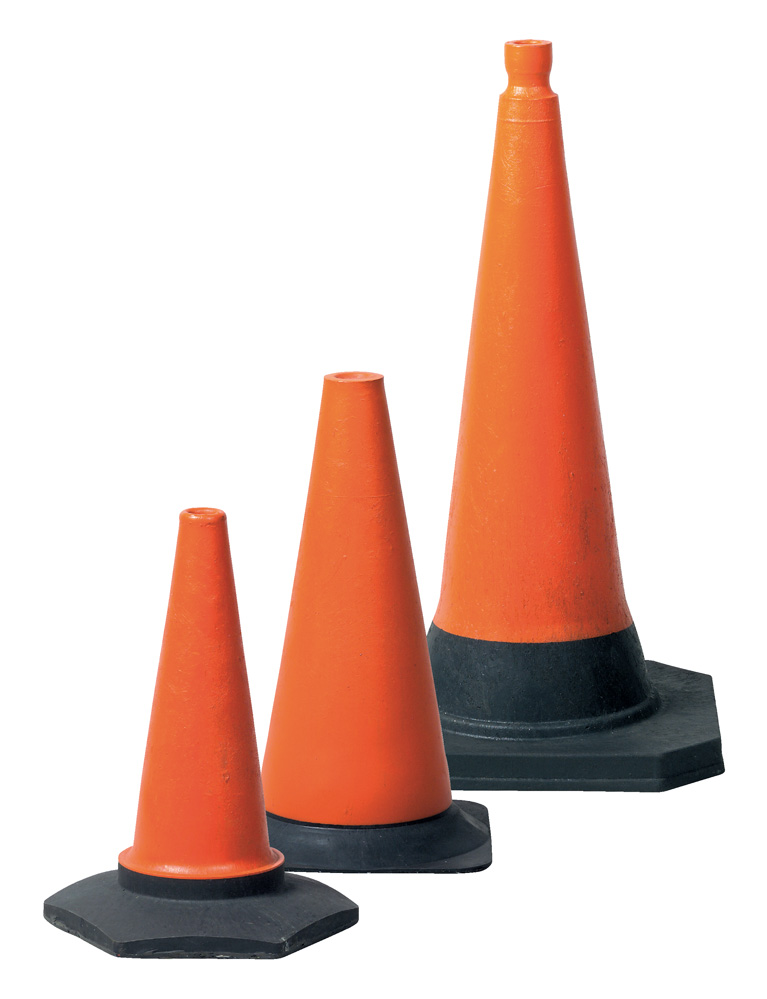Road_cone: (436, 34, 741, 789), (61, 508, 365, 961), (257, 364, 496, 873)
